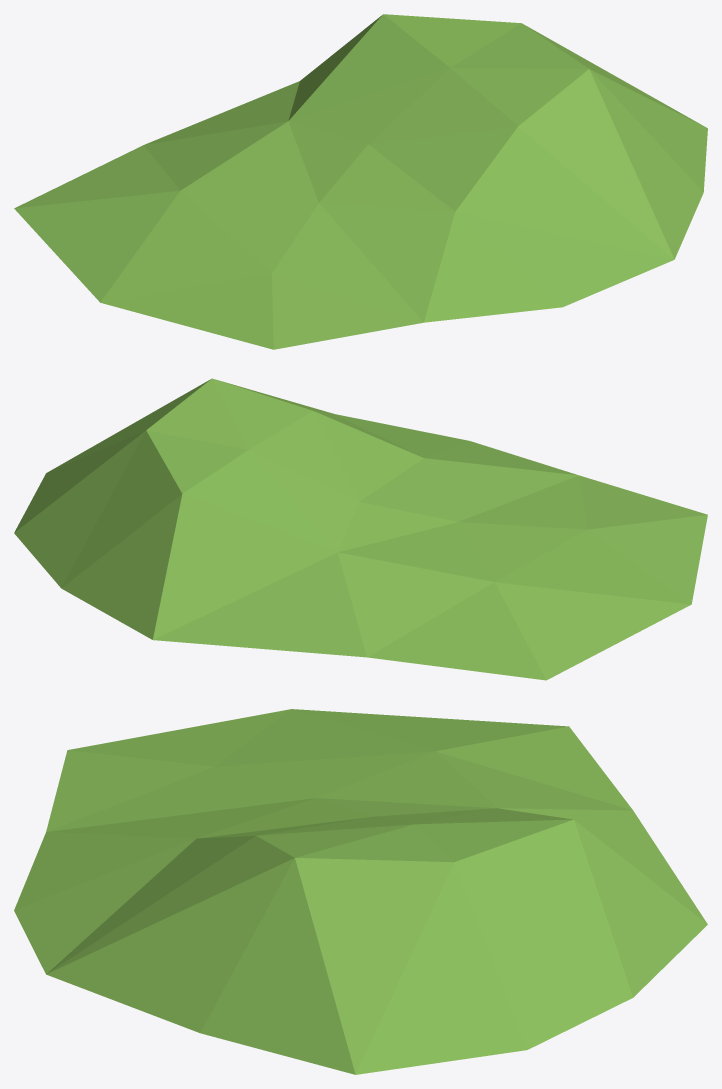
The model's file is MT_Mountain_S_c_03_LOD.fbx.
3 renders of one model, top to bottom at view 1: azimuth 30°, elevation 25°; view 2: azimuth 150°, elevation 25°; view 3: azimuth 270°, elevation 25°, orthographic. The views are drawn at different scales.
Visible parts, largest first — view 1: MT_Mountain_S_c_03_LOD0; view 2: MT_Mountain_S_c_03_LOD0; view 3: MT_Mountain_S_c_03_LOD0.
Part boxes in pixels (x1,y1,x2,y2): MT_Mountain_S_c_03_LOD0: [14, 14, 707, 349]; MT_Mountain_S_c_03_LOD0: [14, 378, 707, 680]; MT_Mountain_S_c_03_LOD0: [14, 709, 707, 1074].
Size of what is drawn, in the model's own units: 1695 by 295 by 1360.
